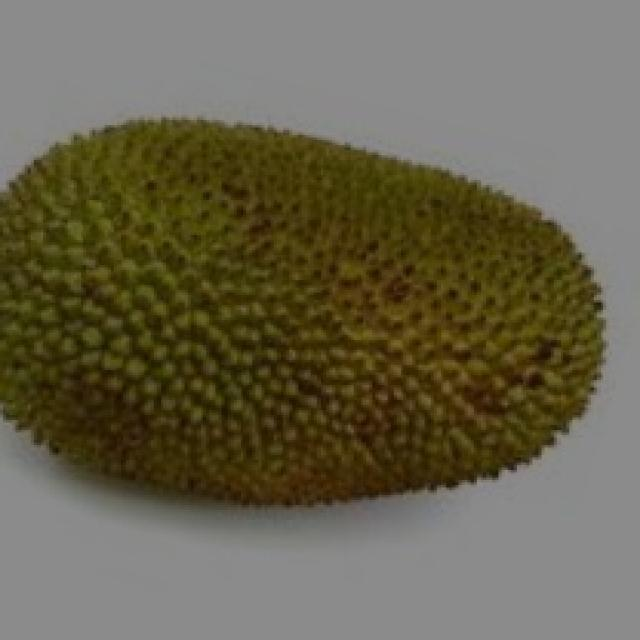Fruit: (0, 94, 412, 527), (252, 115, 640, 535)
